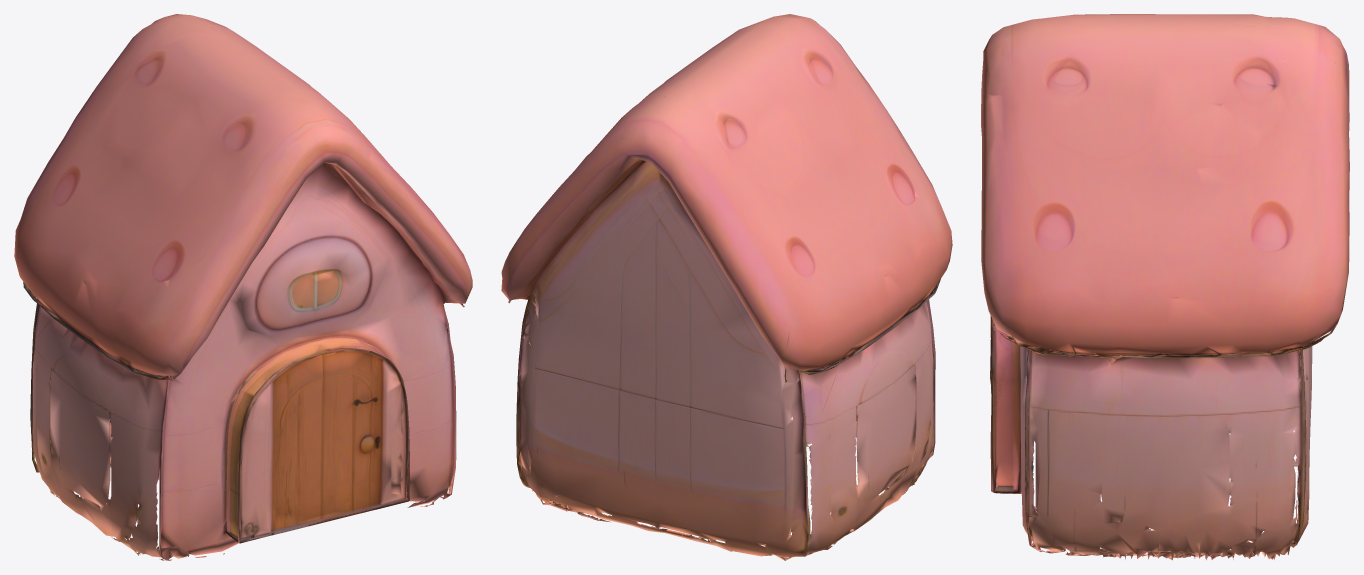
Rendered from Pink_Cottage_0514183306_texture.fbx.
3 renders of one model, left to right at view 1: azimuth 30°, elevation 25°; view 2: azimuth 150°, elevation 25°; view 3: azimuth 270°, elevation 25°, orthographic. The views are drawn at different scales.
Parts seen in each view (by area): view 1: Mesh1; view 2: Mesh1; view 3: Mesh1.
Boxes of the visible parts, x1=… form: Mesh1: x1=14, y1=14, x2=472, y2=560; Mesh1: x1=501, y1=14, x2=952, y2=560; Mesh1: x1=981, y1=14, x2=1349, y2=560.
Size of the model in its own units: 157 by 196 by 139.
1 material, 1 textured.
